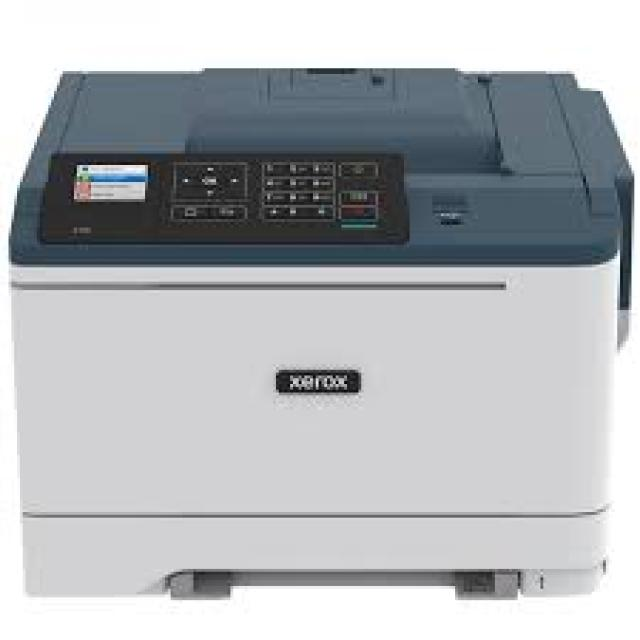printer: (6, 65, 634, 600)
